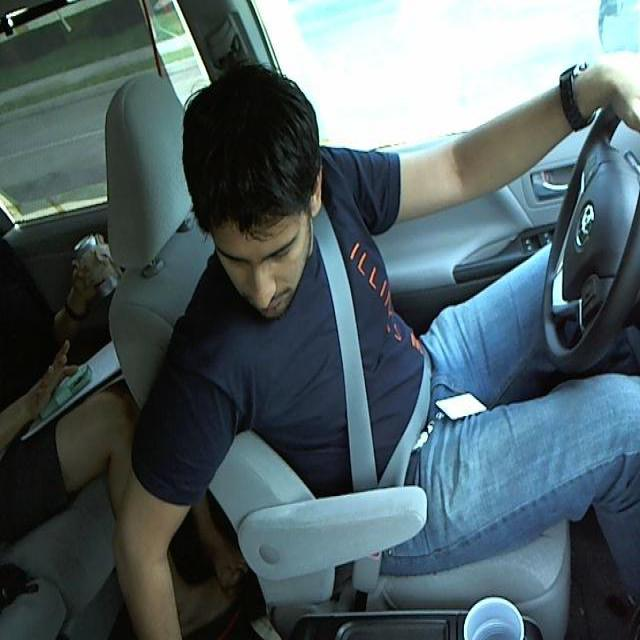seatbelt: (315, 241, 386, 491)
